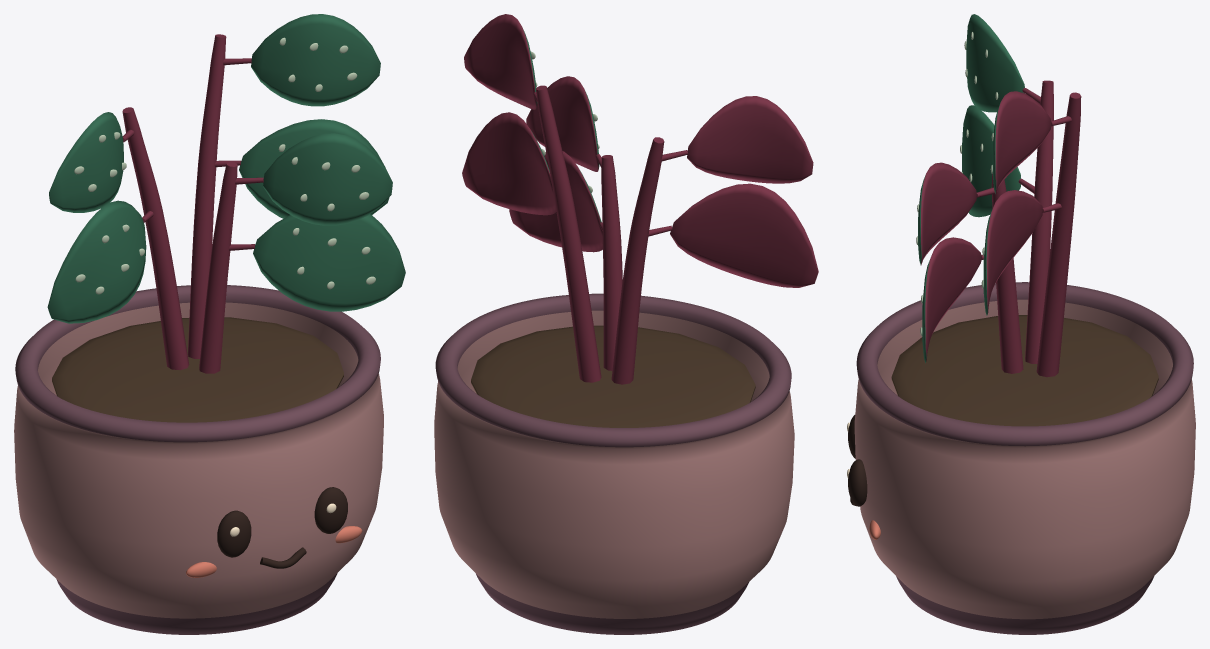
File: polka-dot-begonia-v1.glb
The picture shows the model from 3 angles, left to right: view 1: azimuth 30°, elevation 25°; view 2: azimuth 150°, elevation 25°; view 3: azimuth 270°, elevation 25°; orthographic projection. The views are drawn at different scales.
Parts seen in each view (by area): view 1: Wheel-thrown ceramic, Foliage draw mesh, Soil, Eye, Eye.001; view 2: Wheel-thrown ceramic, Foliage draw mesh, Soil; view 3: Wheel-thrown ceramic, Foliage draw mesh, Soil, Eye.001.
Part boxes in pixels (bbox=[...]): Wheel-thrown ceramic: bbox=[14, 285, 383, 634]; Foliage draw mesh: bbox=[47, 14, 405, 373]; Soil: bbox=[52, 317, 343, 422]; Eye: bbox=[217, 510, 251, 557]; Eye.001: bbox=[314, 487, 347, 533]; Wheel-thrown ceramic: bbox=[434, 293, 794, 634]; Foliage draw mesh: bbox=[462, 14, 818, 384]; Soil: bbox=[471, 325, 755, 427]; Wheel-thrown ceramic: bbox=[854, 282, 1195, 634]; Foliage draw mesh: bbox=[916, 14, 1081, 377]; Soil: bbox=[891, 315, 1158, 426]; Eye.001: bbox=[848, 459, 867, 506].
Bounding box in the file's own units: 1.76 × 2.61 × 1.53.
